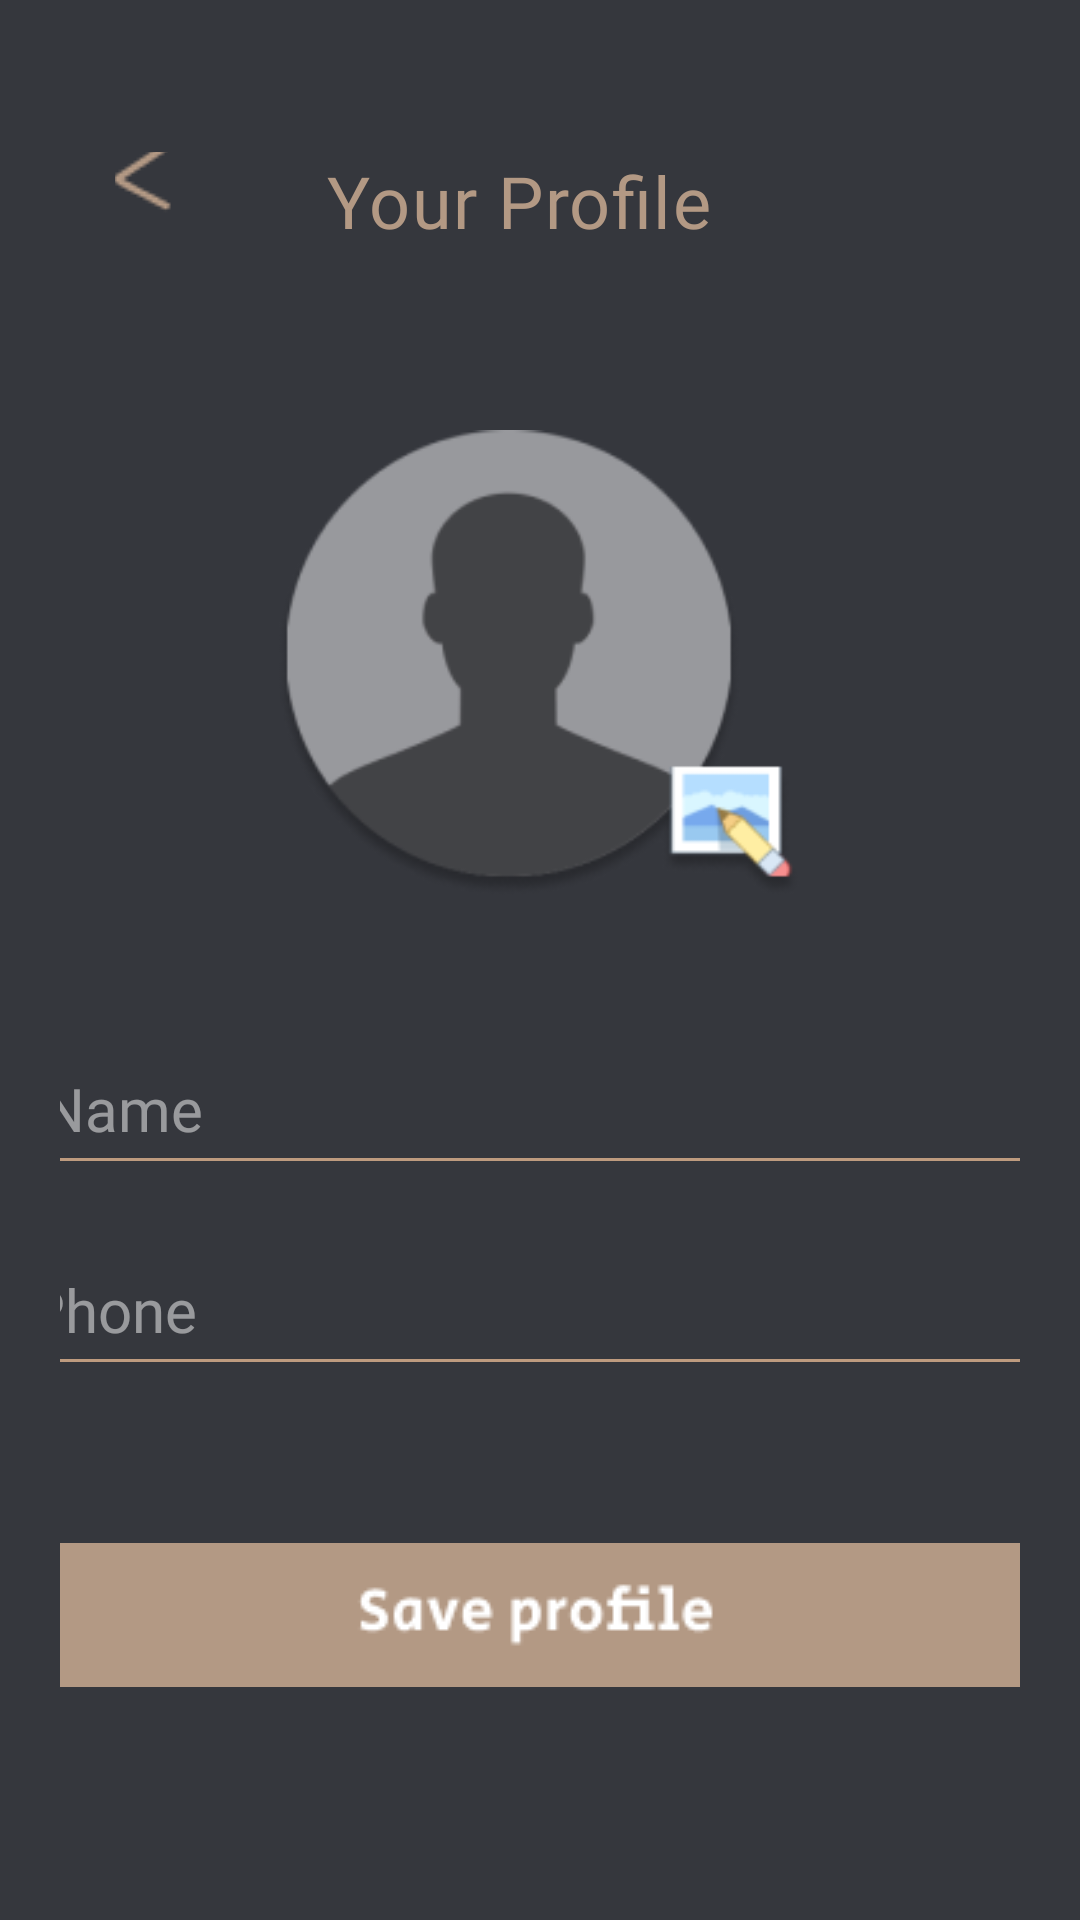

Where to tap for icons on this 1080x1920 app screen, as (x=x, y=y):
backbutton: (x=143, y=181)
